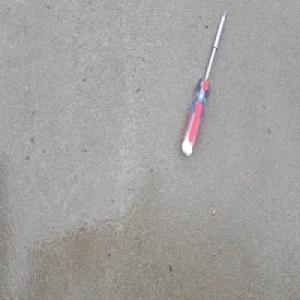Screwdriver: (181, 7, 228, 158)
